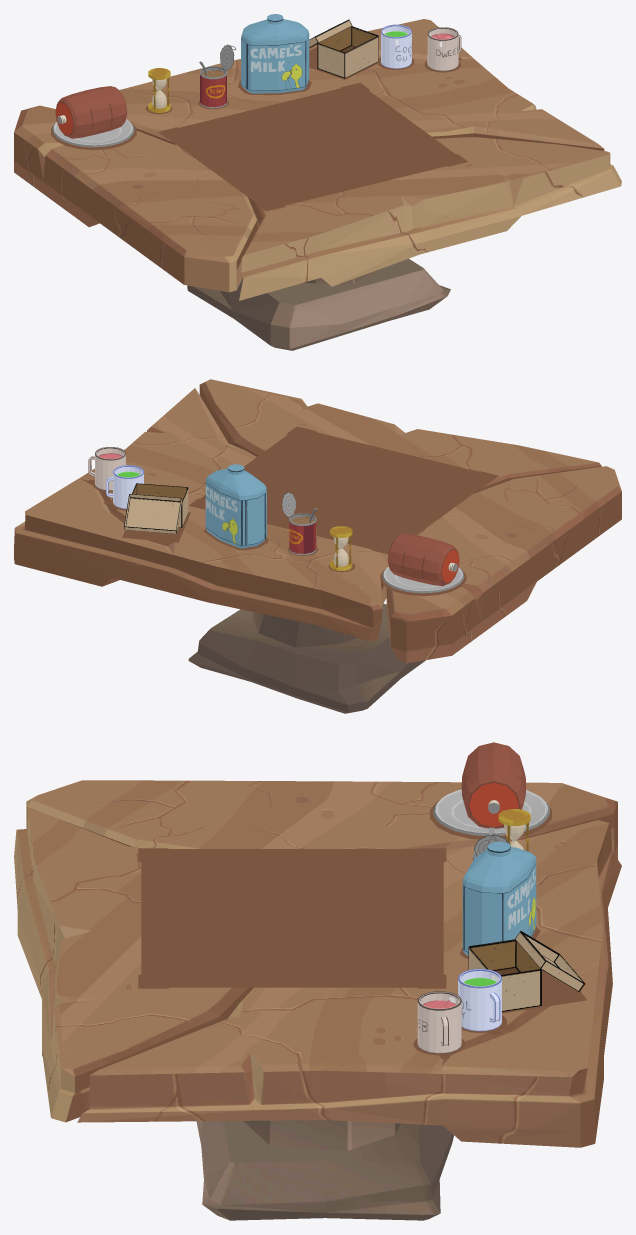
File: Sand_Table.glb
3 views of the same model, one above another, from view 1: azimuth 30°, elevation 25°; view 2: azimuth 150°, elevation 25°; view 3: azimuth 270°, elevation 25° (orthographic). The views are drawn at different scales.
Visible parts, largest first — view 1: Sand_Table, Sand_Table_Objects; view 2: Sand_Table, Sand_Table_Objects; view 3: Sand_Table, Sand_Table_Objects.
Part boxes in pixels (x1,y1,x2,y2): Sand_Table: (14, 19, 621, 350); Sand_Table_Objects: (52, 14, 461, 147); Sand_Table: (14, 379, 621, 713); Sand_Table_Objects: (88, 447, 464, 593); Sand_Table: (14, 780, 621, 1220); Sand_Table_Objects: (417, 742, 585, 1053).
Bounding box in the file's own units: 5.26 × 2.76 × 4.5.
2 materials, 2 textured.
